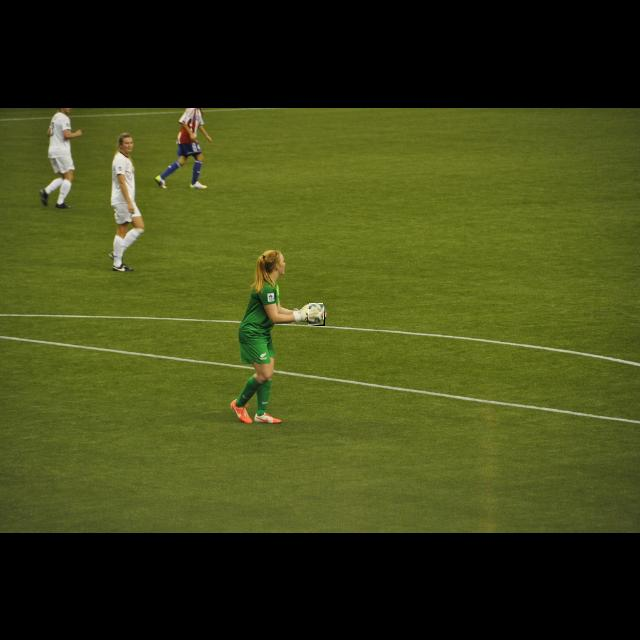Football: (309, 304, 325, 326)
